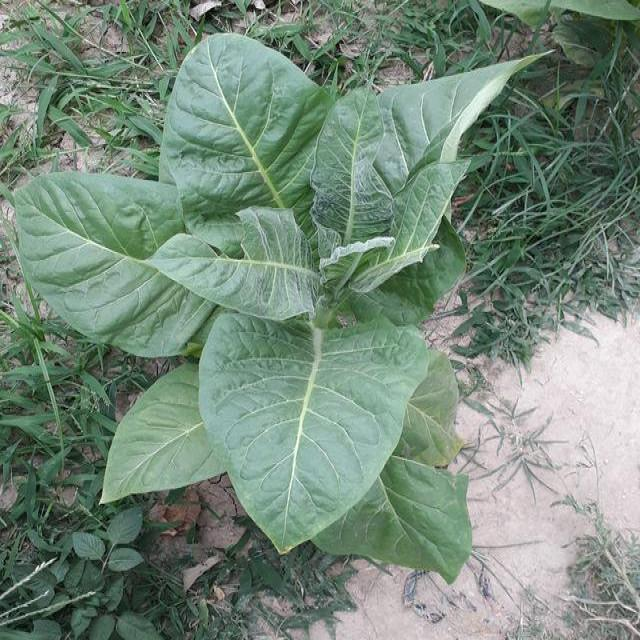crop: (13, 41, 531, 584)
